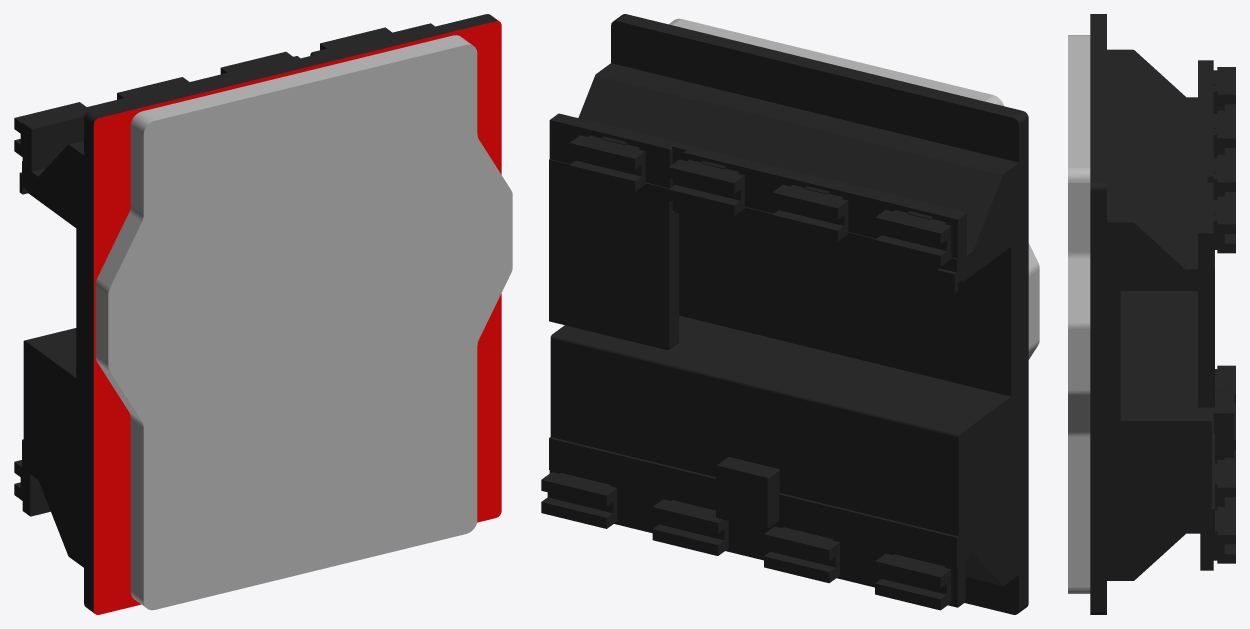
File: Pillar_Base.dae
The picture shows the model from 3 angles, left to right: view 1: azimuth 30°, elevation 25°; view 2: azimuth 150°, elevation 25°; view 3: azimuth 270°, elevation 25°; orthographic projection. The views are drawn at different scales.
Visible parts, largest first — view 1: Node_000001B02D089FE0 (×3); view 2: Node_000001B02D089FE0 (×2); view 3: Node_000001B02D089FE0 (×2).
Boxes of the visible parts, bbox=[...] form: Node_000001B02D089FE0 (×3): bbox=[14, 14, 512, 614]; Node_000001B02D089FE0 (×2): bbox=[541, 14, 1039, 614]; Node_000001B02D089FE0 (×2): bbox=[1068, 14, 1235, 614].
Size of the model in its own units: 1.1 by 1.28 by 0.451.
